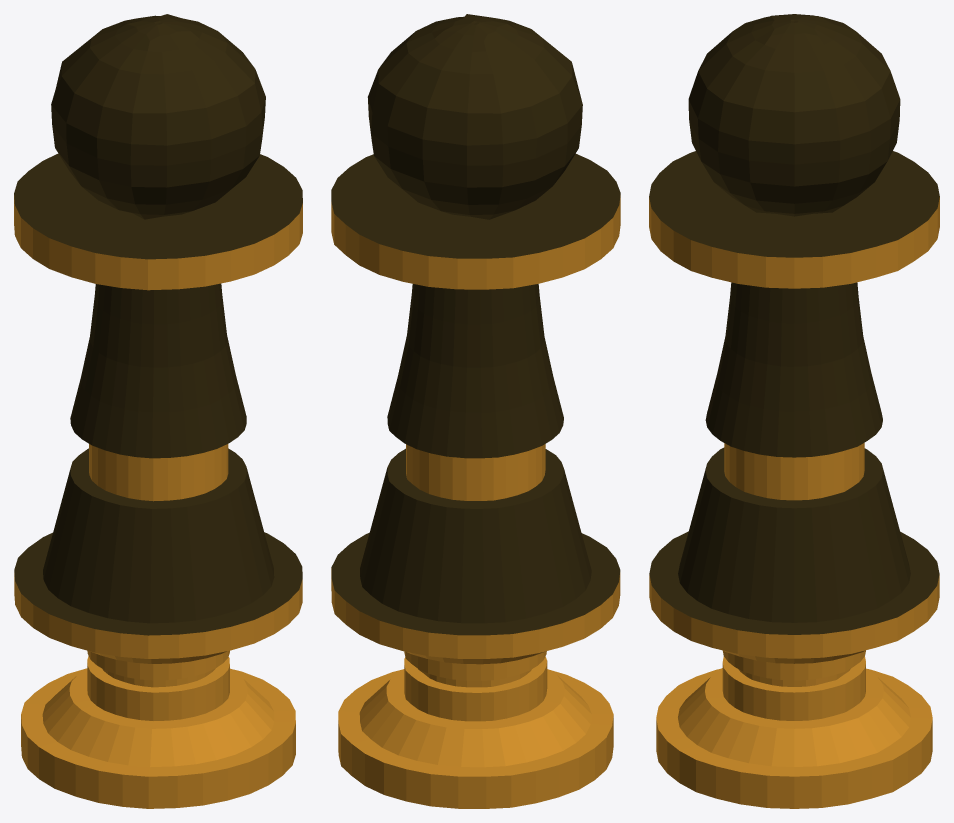
Rendered from metal_p_b.glb.
3 renders of one model, left to right at view 1: azimuth 30°, elevation 25°; view 2: azimuth 150°, elevation 25°; view 3: azimuth 270°, elevation 25°, orthographic.
Visible parts, largest first — view 1: p1, p0; view 2: p1, p0; view 3: p1, p0.
Boxes of the visible parts, bbox=[...] form: p1: bbox=[14, 14, 302, 635]; p0: bbox=[14, 195, 302, 808]; p1: bbox=[331, 14, 620, 635]; p0: bbox=[331, 195, 620, 808]; p1: bbox=[649, 14, 939, 634]; p0: bbox=[649, 197, 939, 808].
Size of the model in its own units: 0.3252 by 0.9 by 0.3252.
